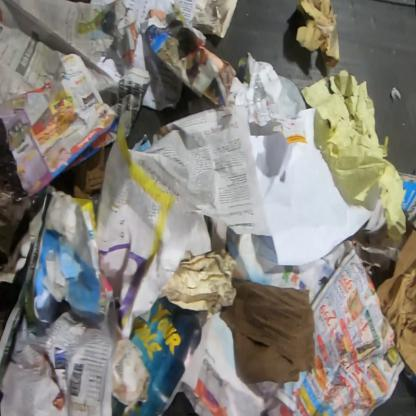cardboard: (294, 0, 340, 70), (70, 144, 113, 199)
